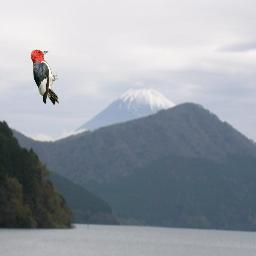Woodpecker: (31, 49, 59, 105)
